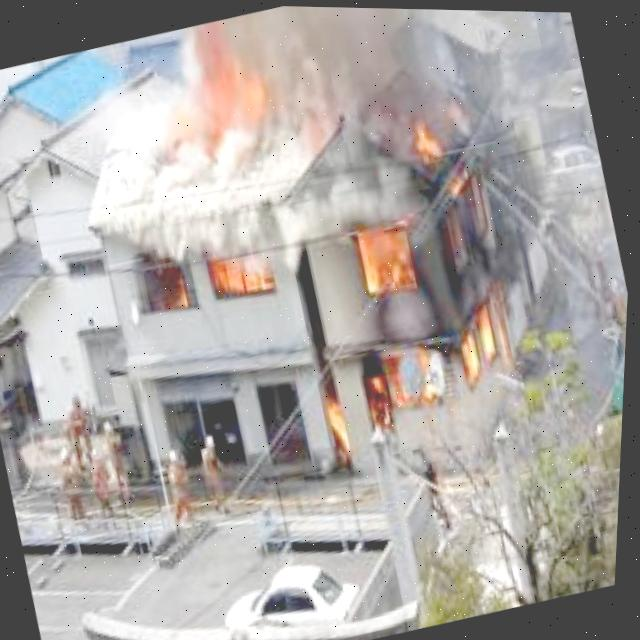Fire: (247, 93, 549, 469), (134, 27, 282, 172), (142, 238, 278, 321)
Smoke: (44, 1, 495, 290)
